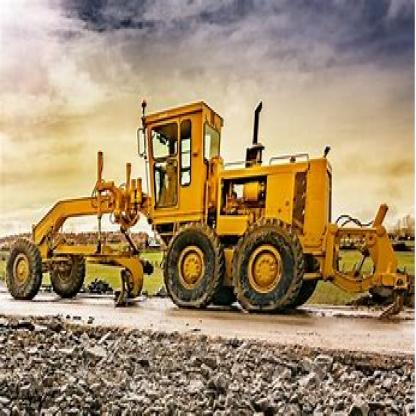bull_dozer/loader/grader: (2, 94, 402, 324)
